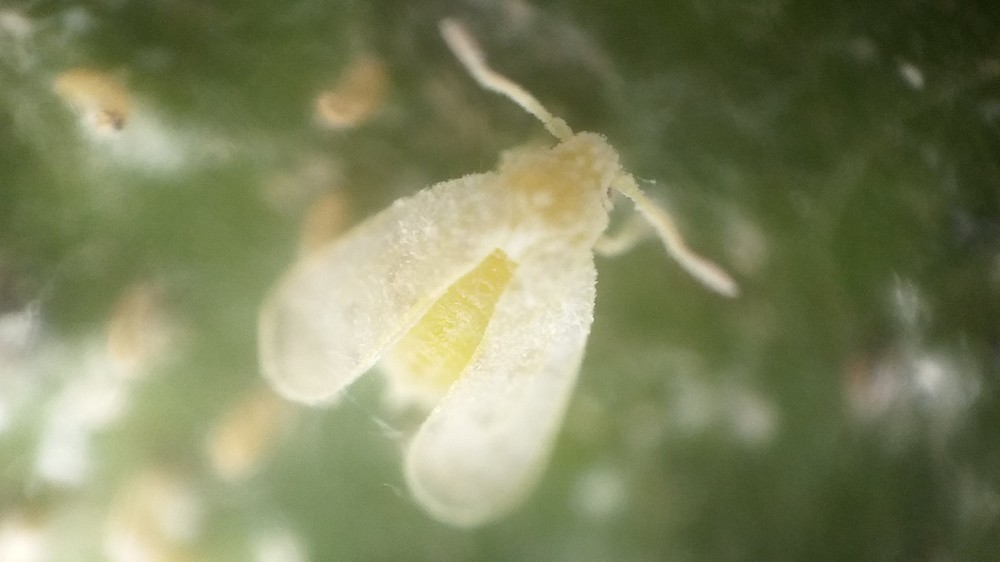Mosca Blanca: (235, 13, 744, 546)
